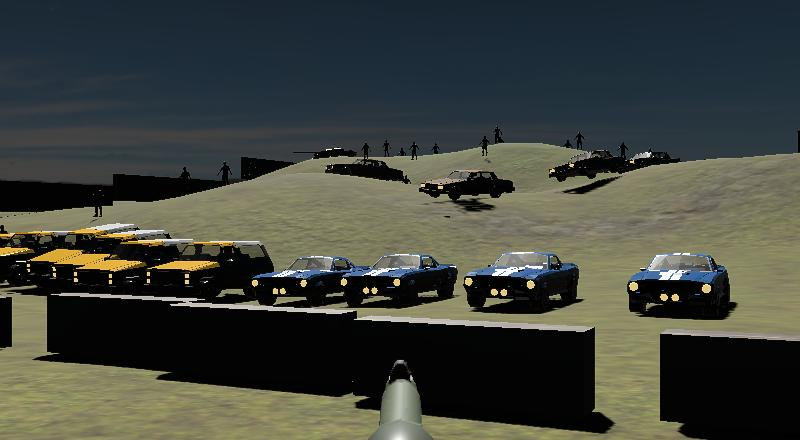Human: (216, 159, 234, 188)
car: (2, 222, 207, 306), (619, 243, 740, 325), (619, 243, 739, 325), (148, 235, 279, 308), (459, 244, 589, 317), (243, 248, 374, 311), (362, 246, 462, 309), (414, 165, 520, 205), (545, 144, 637, 186), (322, 154, 415, 188), (626, 144, 684, 174)
